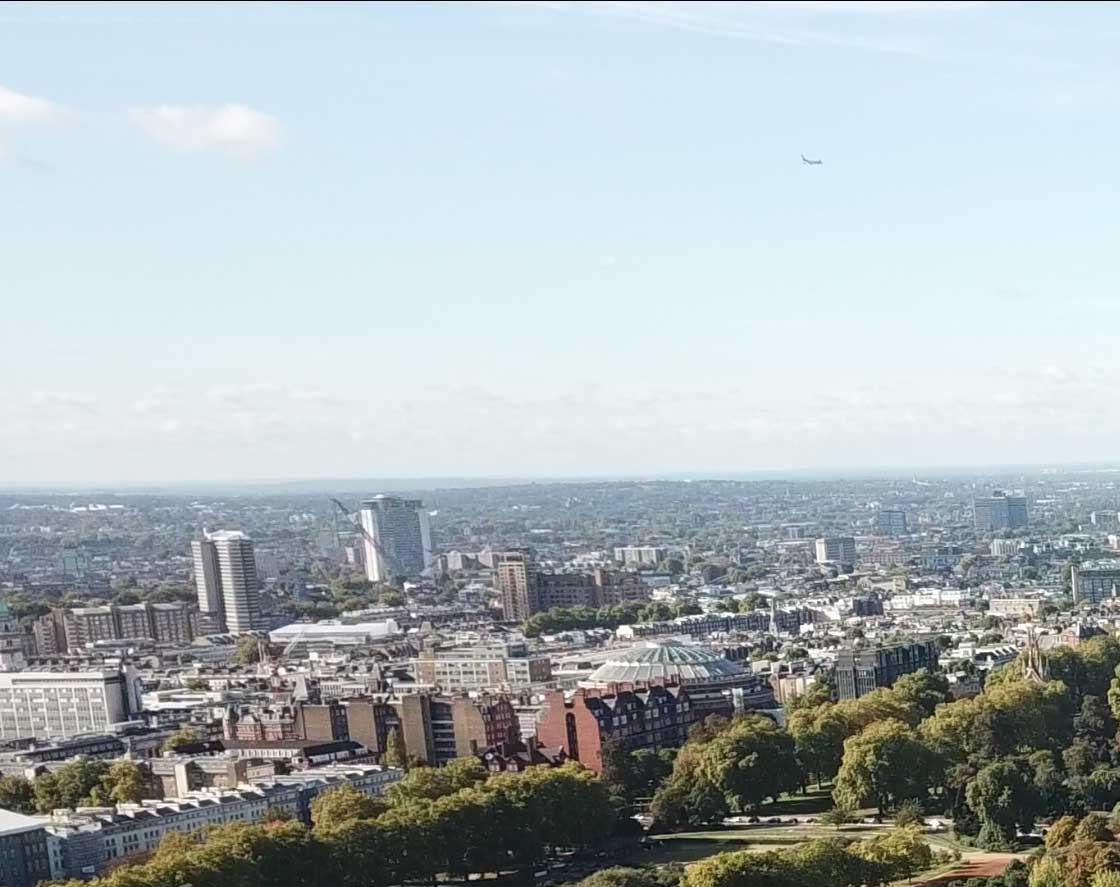building: (584, 646, 789, 751), (163, 522, 298, 654), (1, 649, 141, 752), (339, 486, 454, 588), (383, 686, 528, 759), (959, 485, 1038, 543)
